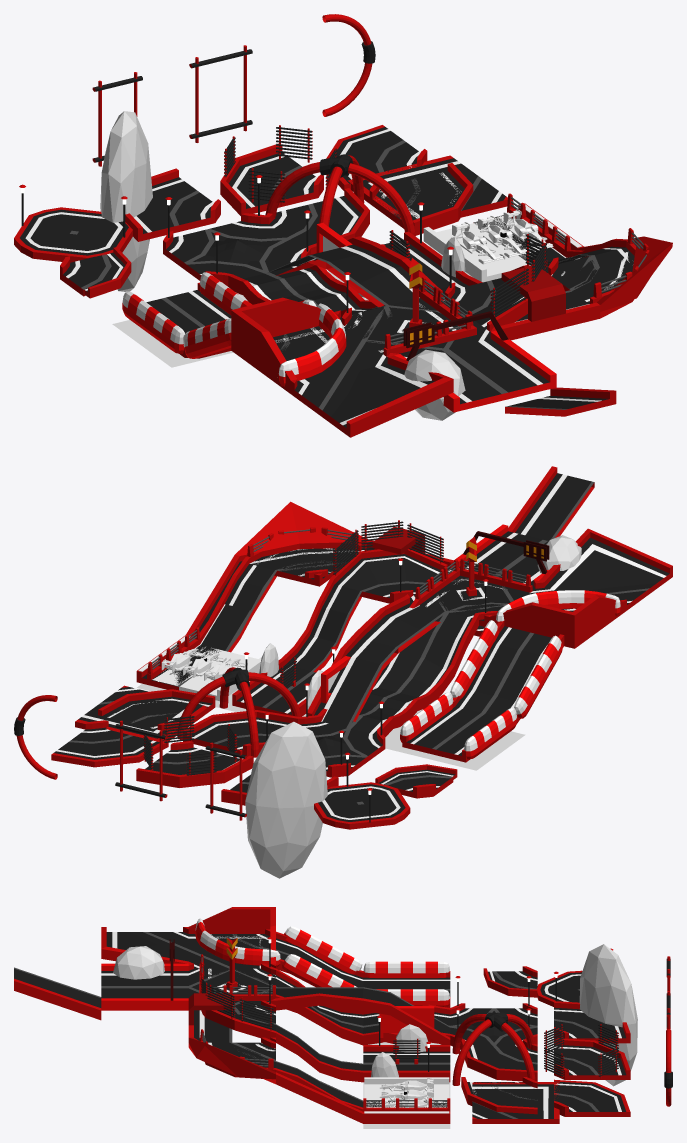
File: trackv3.glb
The picture shows the model from 3 angles, top to bottom: view 1: azimuth 30°, elevation 25°; view 2: azimuth 150°, elevation 25°; view 3: azimuth 270°, elevation 25°; orthographic projection. The views are drawn at different scales.
Visible parts, largest first — view 1: corner.005, corner.006, straight.010, cross.005, cross.002, platform.003, Icosphere.003, platform.002, podium, straight.004, straight.003, straight.008 (+28 smaller); view 2: Icosphere.003, ramp.004, corner.002, corner.006, cross.002, ramp.003, corner.007, straight.004, platform.003, ramp.006, platform.002, Cube.009 (+26 smaller); view 3: cross.002, Icosphere.003, platform.003, straight.010, ramp.004, straight.004, corner.005, podium, corner.002, corner.007, platform.001, cross.005 (+30 smaller).
Boxes of the visible parts, x1=… form: corner.005: x1=231, y1=297, x2=393, y2=393; corner.006: x1=290, y1=355, x2=453, y2=437; straight.010: x1=394, y1=311, x2=556, y2=412; cross.005: x1=163, y1=175, x2=310, y2=286; cross.002: x1=265, y1=154, x2=415, y2=254; platform.003: x1=220, y1=125, x2=337, y2=215; Icosphere.003: x1=100, y1=111, x2=152, y2=291; platform.002: x1=14, y1=184, x2=132, y2=262; podium: x1=347, y1=155, x2=507, y2=220; straight.004: x1=122, y1=272, x2=252, y2=357; straight.003: x1=228, y1=223, x2=364, y2=311; straight.008: x1=490, y1=266, x2=600, y2=340; Icosphere.003: x1=245, y1=721, x2=327, y2=878; ramp.004: x1=450, y1=620, x2=564, y2=724; corner.002: x1=331, y1=520, x2=447, y2=603; corner.006: x1=539, y1=528, x2=672, y2=612; cross.002: x1=177, y1=667, x2=300, y2=757; ramp.003: x1=374, y1=599, x2=478, y2=703; corner.007: x1=235, y1=501, x2=367, y2=586; straight.004: x1=400, y1=692, x2=517, y2=762; platform.003: x1=136, y1=714, x2=253, y2=787; ramp.006: x1=307, y1=632, x2=398, y2=728; platform.002: x1=314, y1=752, x2=410, y2=829; Cube.009: x1=508, y1=466, x2=594, y2=540; cross.002: x1=452, y1=1012, x2=537, y2=1085; Icosphere.003: x1=579, y1=944, x2=637, y2=1086; platform.003: x1=544, y1=1024, x2=630, y2=1079; straight.010: x1=101, y1=939, x2=188, y2=1010; ramp.004: x1=276, y1=926, x2=363, y2=987; straight.004: x1=363, y1=961, x2=450, y2=1007; corner.005: x1=188, y1=907, x2=275, y2=968; podium: x1=472, y1=1082, x2=559, y2=1123; corner.002: x1=201, y1=974, x2=275, y2=1039; corner.007: x1=188, y1=1037, x2=275, y2=1084; platform.001: x1=554, y1=1079, x2=630, y2=1116; cross.005: x1=450, y1=976, x2=537, y2=1049.
Size of the model in its own units: 64.56 by 31.99 by 121.
5 materials, 2 textured.
